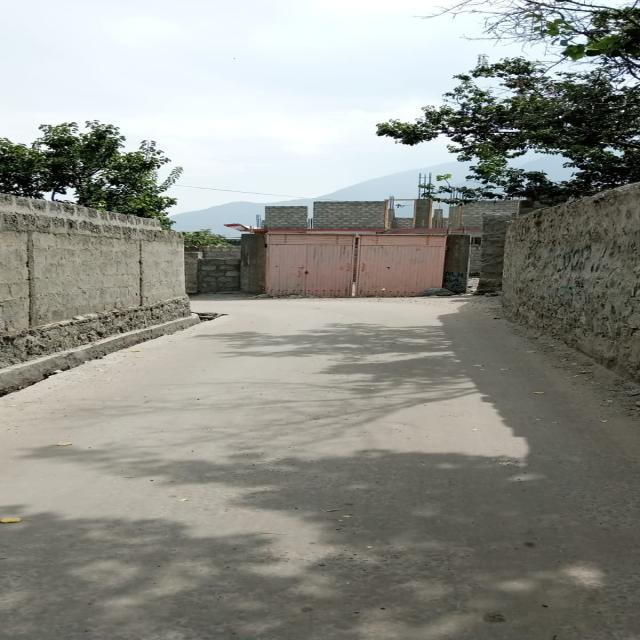Left-Turn: (190, 292, 362, 379)
